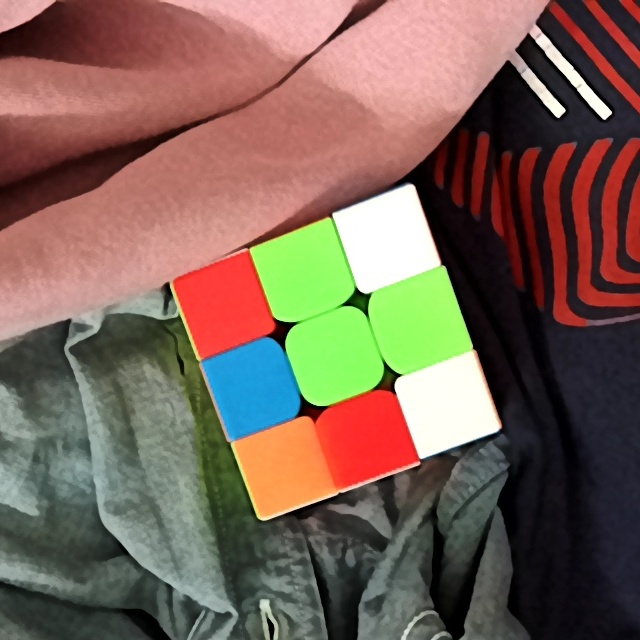tile: (388, 289, 453, 355), (353, 211, 419, 274), (414, 373, 477, 438), (274, 241, 337, 304), (223, 359, 285, 423), (306, 325, 367, 389), (193, 272, 250, 340), (252, 437, 314, 499), (336, 407, 397, 468)
